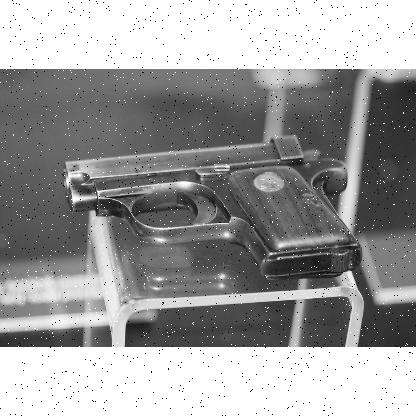gun: (62, 135, 362, 277)
